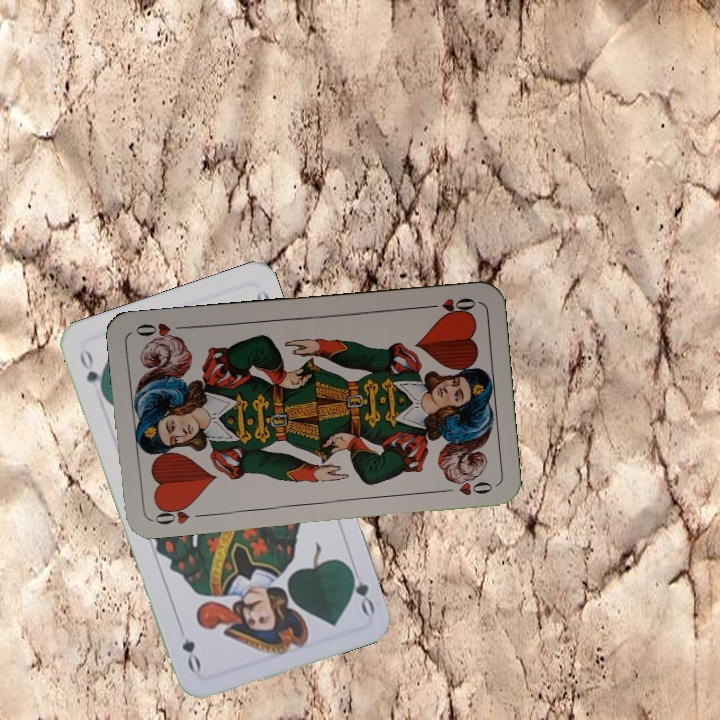GO: (343, 561, 378, 618), (75, 345, 108, 400)
HO: (420, 293, 478, 318), (147, 499, 195, 527)
